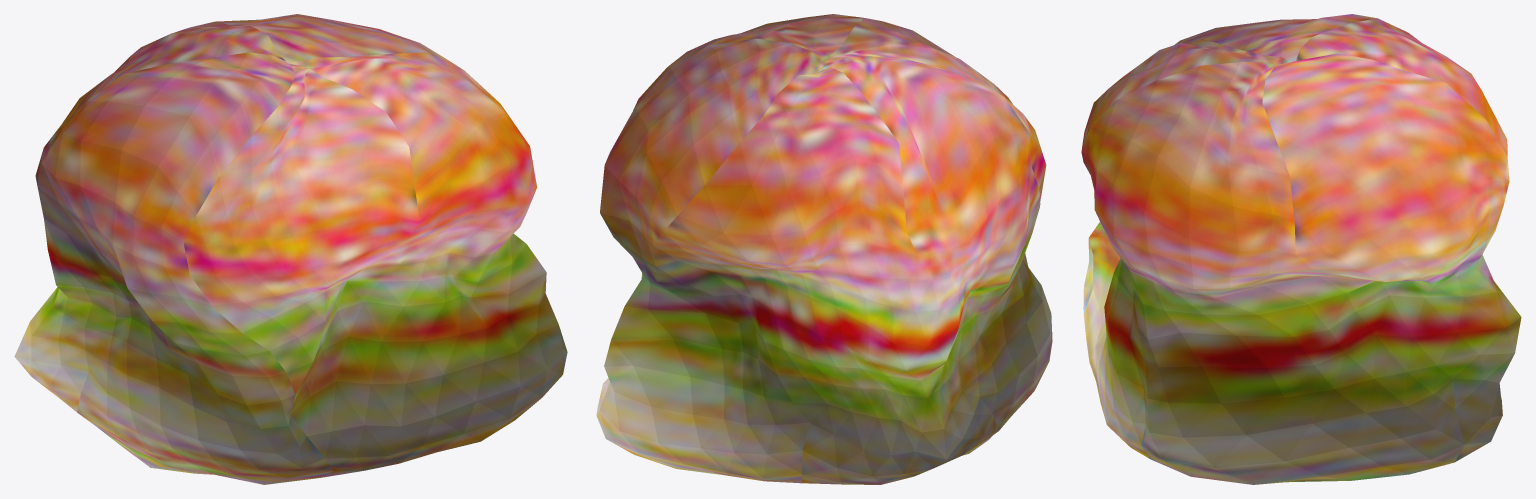
3 renders of one model, left to right at view 1: azimuth 30°, elevation 25°; view 2: azimuth 150°, elevation 25°; view 3: azimuth 270°, elevation 25°, orthographic. The views are drawn at different scales.
Parts seen in each view (by area): view 1: pMesh1; view 2: pMesh1; view 3: pMesh1.
Boxes of the visible parts, <box> form: pMesh1: <box>14,14,567,484</box>; pMesh1: <box>596,14,1052,484</box>; pMesh1: <box>1081,14,1521,484</box>.
Bounding box in the file's own units: 2.44 × 2.16 × 2.37.
Materials: 1 (1 with a texture image).
